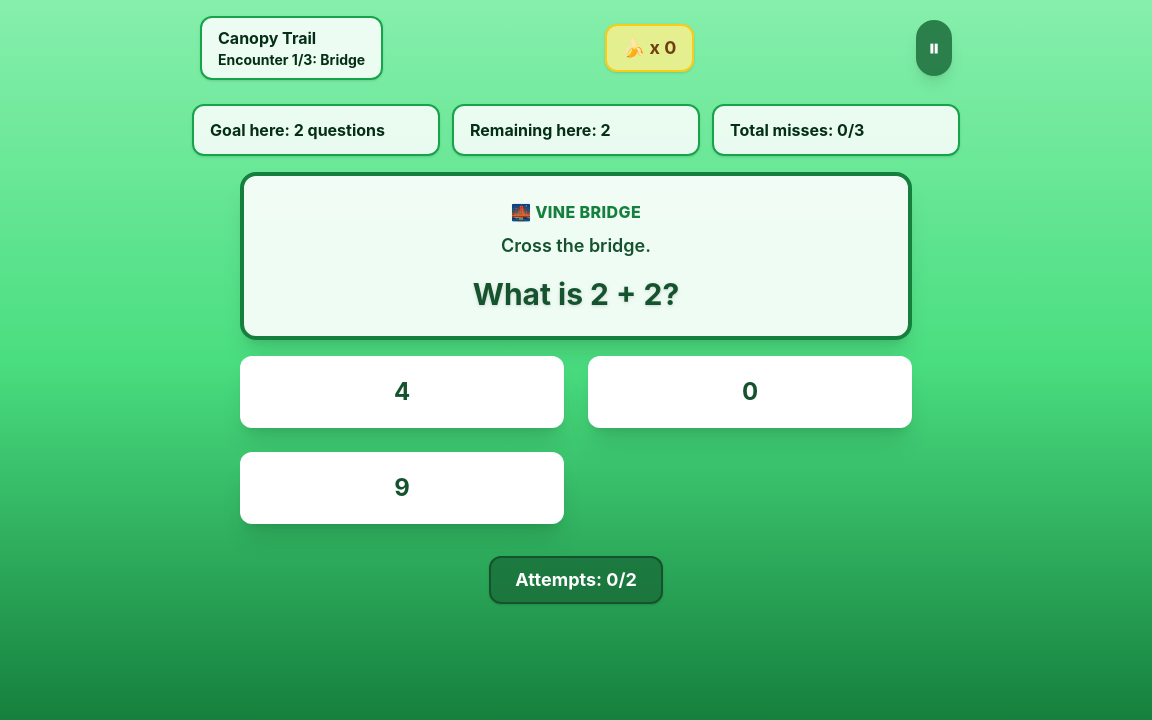
GamePlay › resets attempts when advancing to the next question and still allows two tries
This screenshot has width=1152, height=720.
expect the heading "What is 2 + 2?" is shown: met, box x1=473 y1=276 x2=679 y2=312
expect the text "Attempts: 0/2" is shown: met, box x1=489 y1=556 x2=663 y2=604
Click the button "0".
click(750, 392)  # box x1=588 y1=356 x2=912 y2=428
Wait 1000 ms
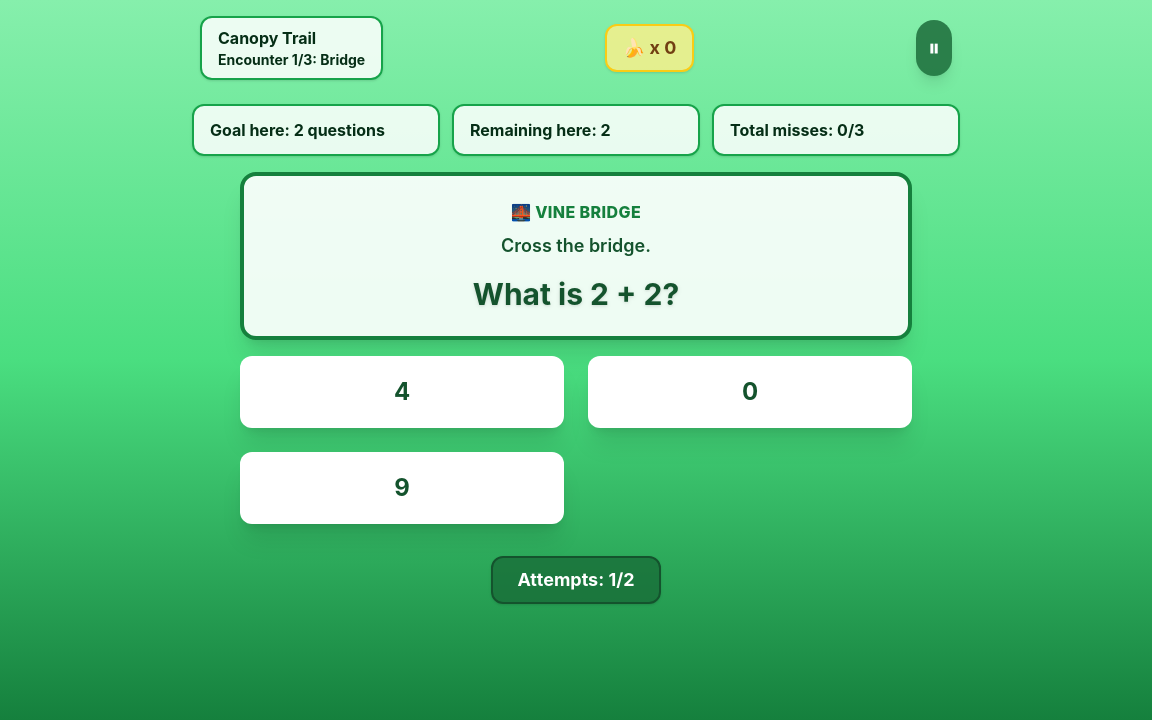
expect the text "Attempts: 1/2" is shown: met, box x1=491 y1=556 x2=661 y2=604
Click the button "4".
click(402, 392)  # box x1=240 y1=356 x2=564 y2=428
Wait 1000 ms
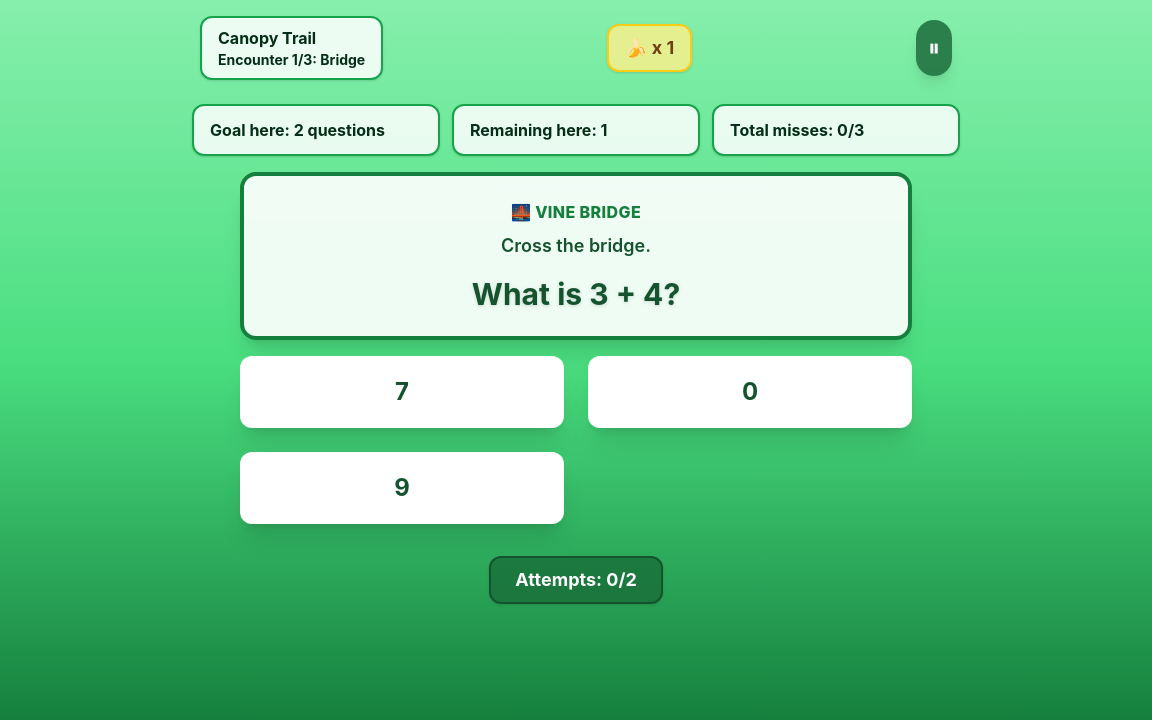
expect the heading "What is 3 + 4?" is shown: met, box x1=472 y1=276 x2=680 y2=312
expect the text "Attempts: 0/2" is shown: met, box x1=489 y1=556 x2=663 y2=604
